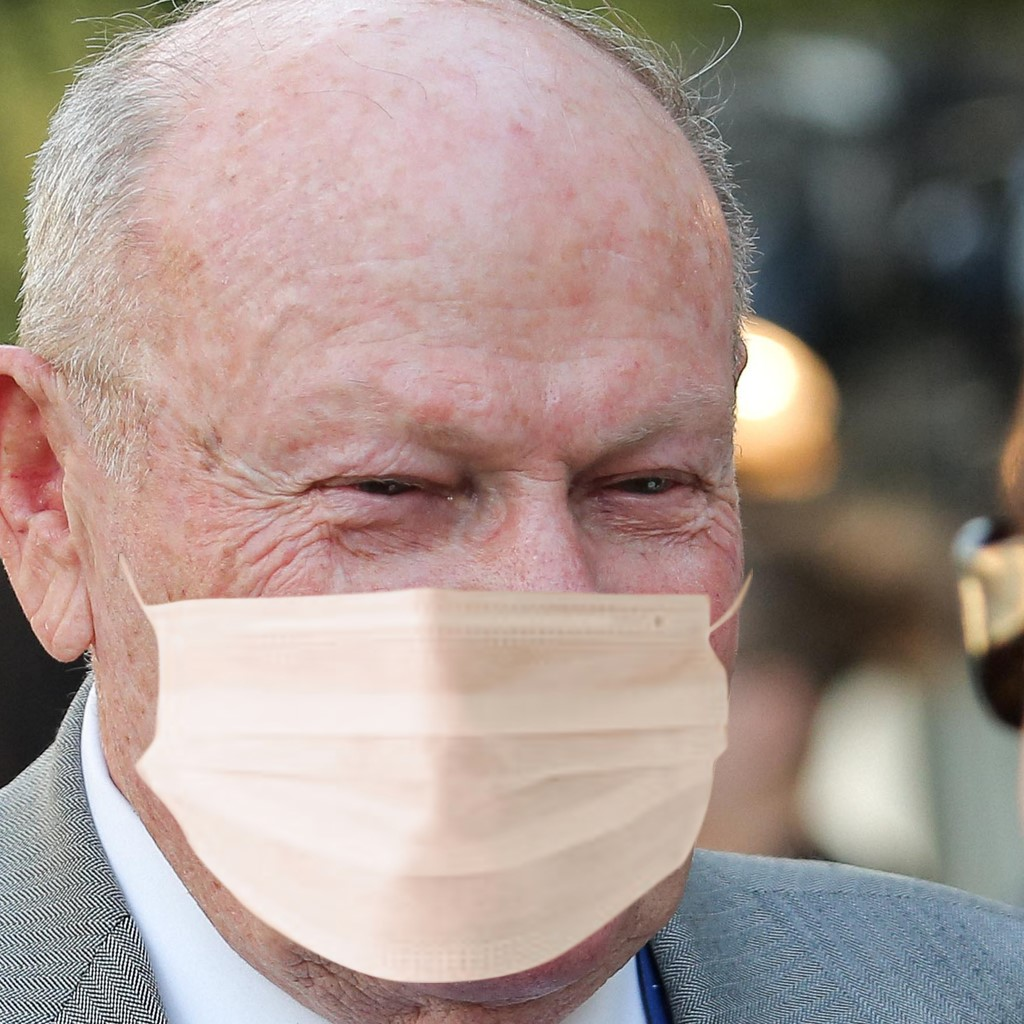con_mascara: (53, 32, 723, 931)
